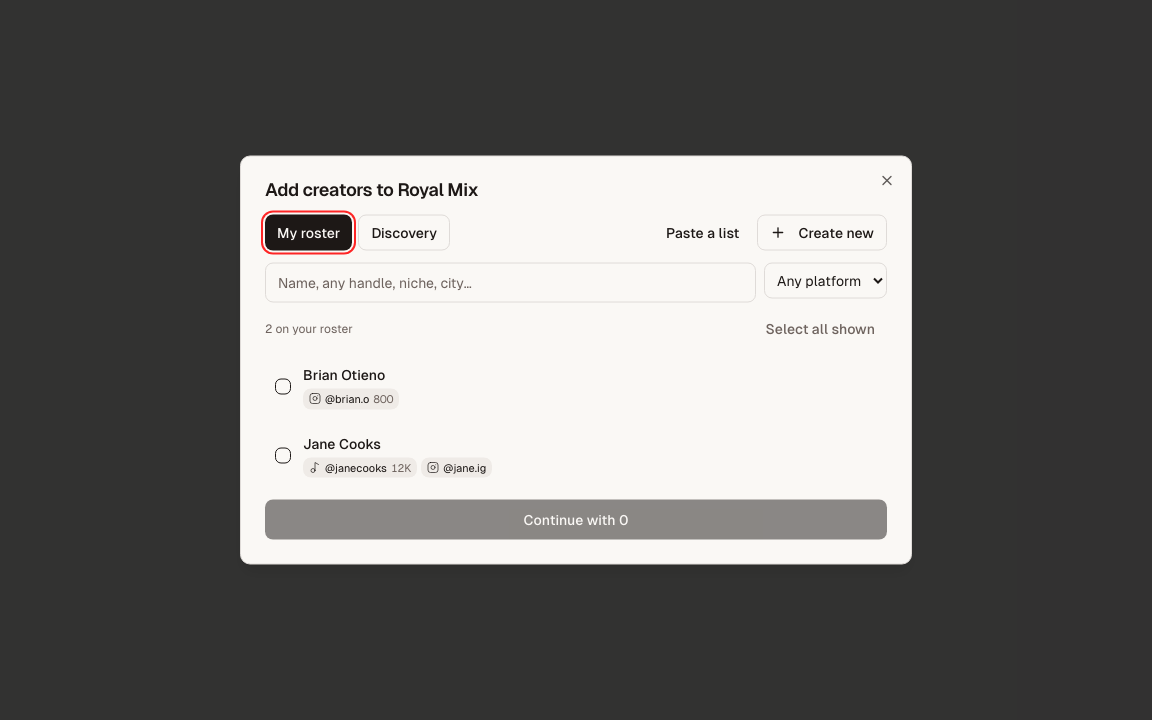
Test: adding from the roster on a campaign page › warns about anyone with no email, because Broadcast can't reach them
Click the checkbox named "brian otieno" at [283, 387], box [275,379,291,395]
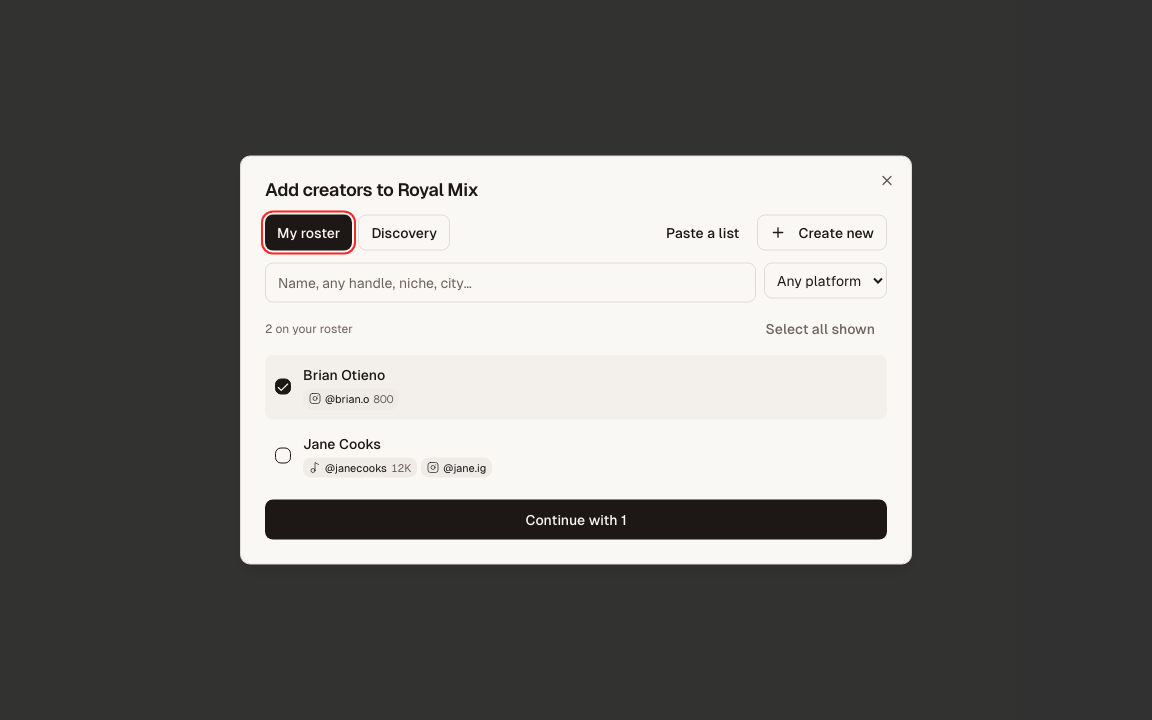
Click the button "Continue with 1" at [576, 520], box [265,500,887,540]
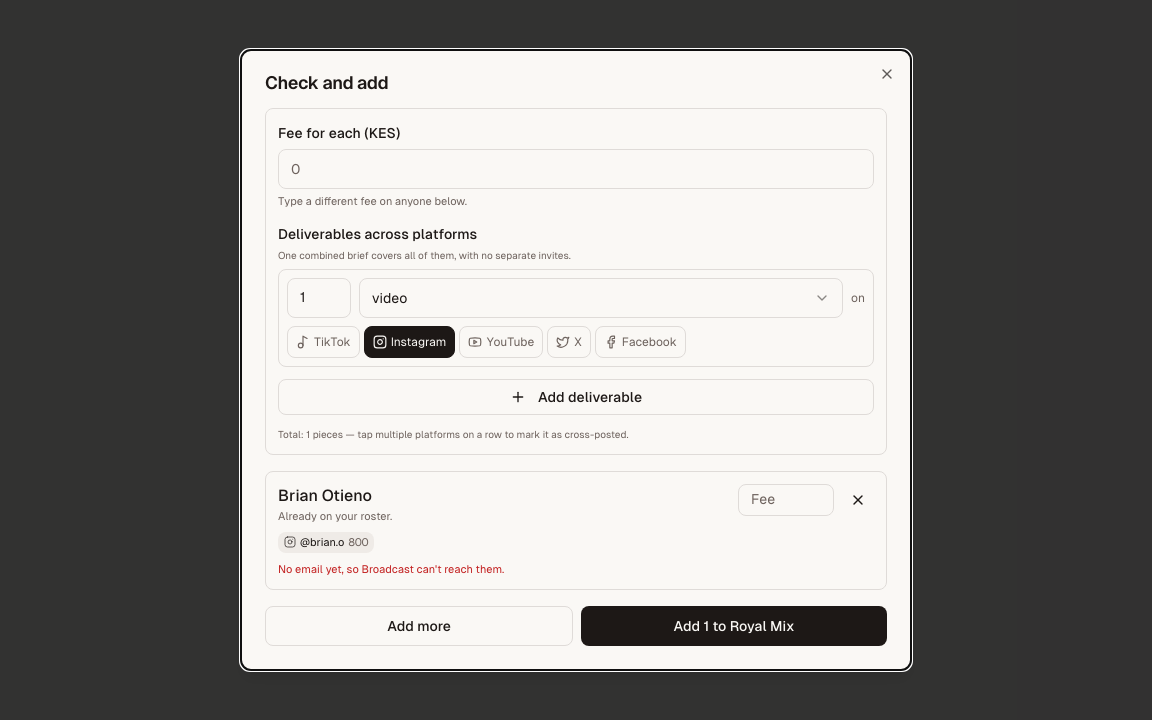
Expected: the text "No email yet, so Broadcast can't reach them." is shown, [278,562,504,574]
